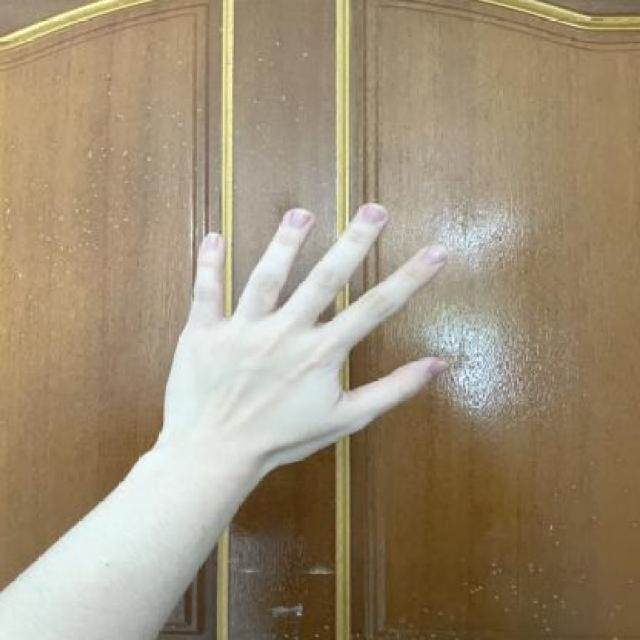no_glove: (126, 182, 472, 481)
